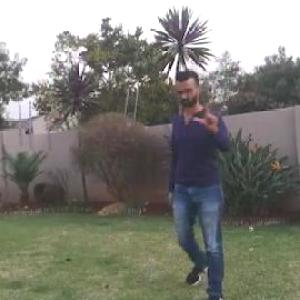land_hand: (193, 99, 227, 133)
